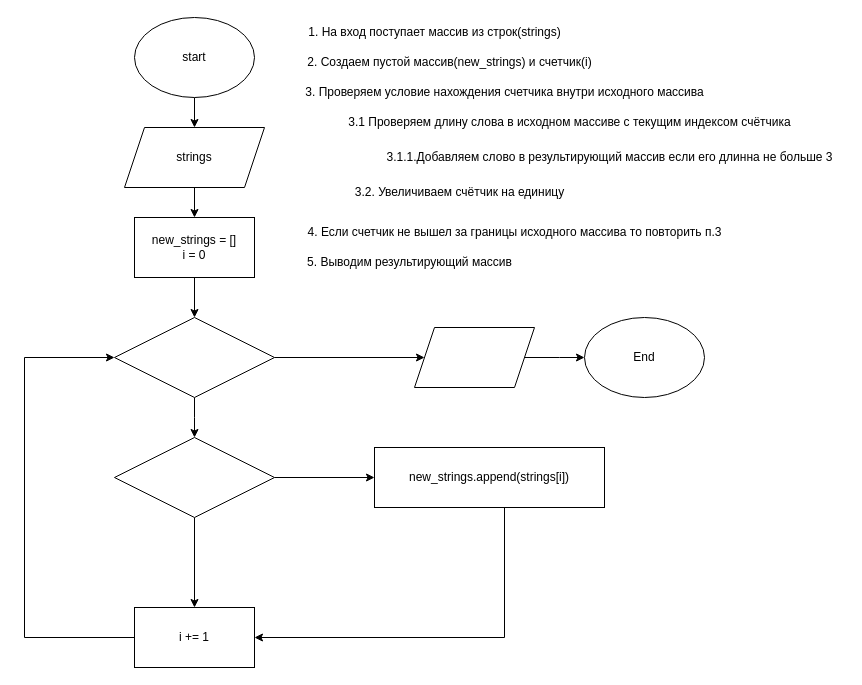
Some shapes in this 862 by 685 pixel diagram are drawn without their labels. The box of each missing label's shape, as (x1, y1, x2, y2) in pixels:
i < len(strings): (114, 316, 274, 398)
len(strings[i]) <= 3: (114, 436, 274, 518)
new_strings: (414, 326, 534, 388)
